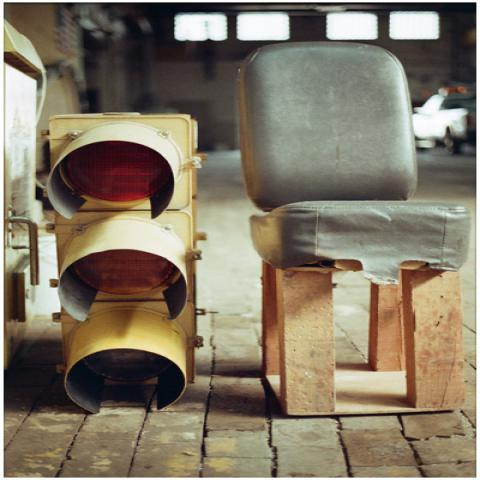car: (412, 86, 479, 156)
